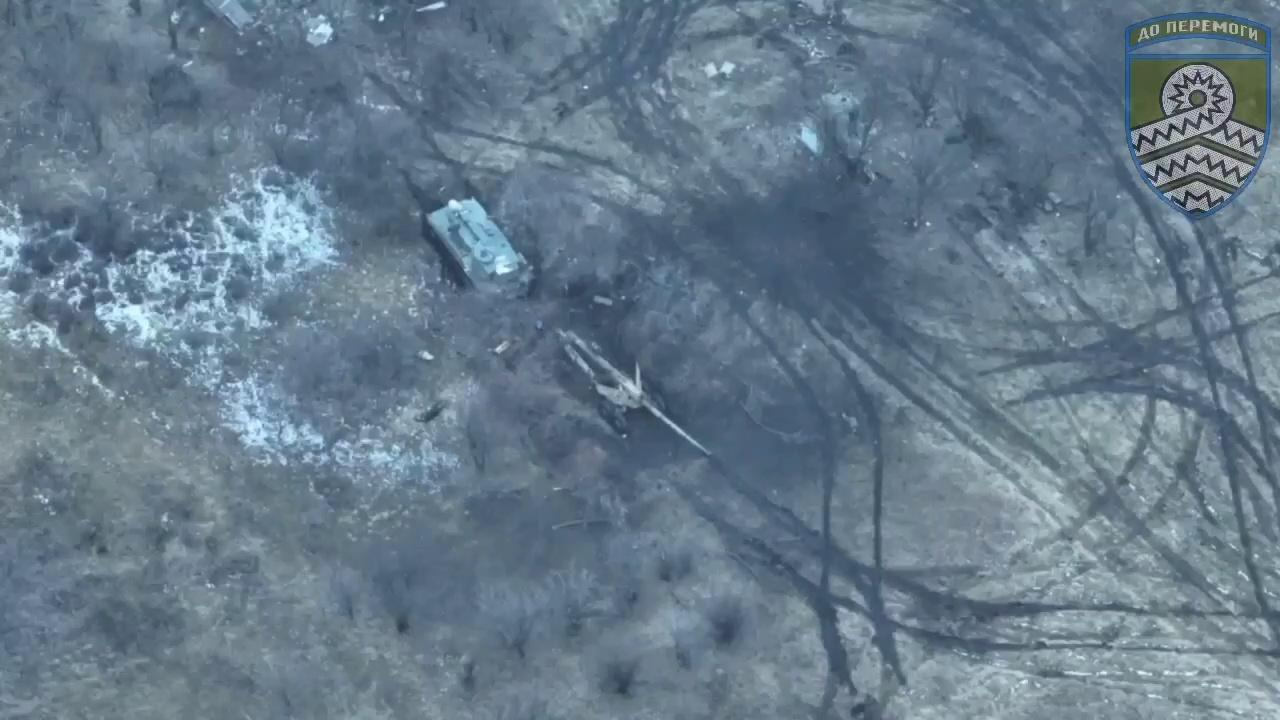person: (151, 507, 172, 548), (71, 517, 94, 551)
vehicle: (552, 326, 717, 458), (419, 195, 544, 304)
